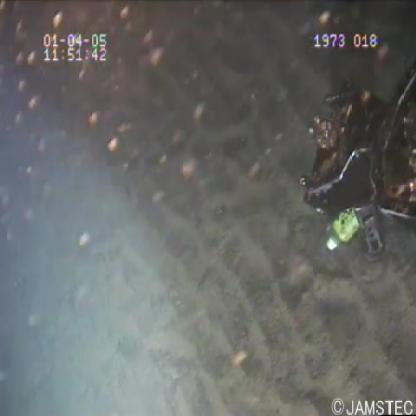Rov: (295, 55, 416, 266)
Rác: (323, 200, 360, 253)
